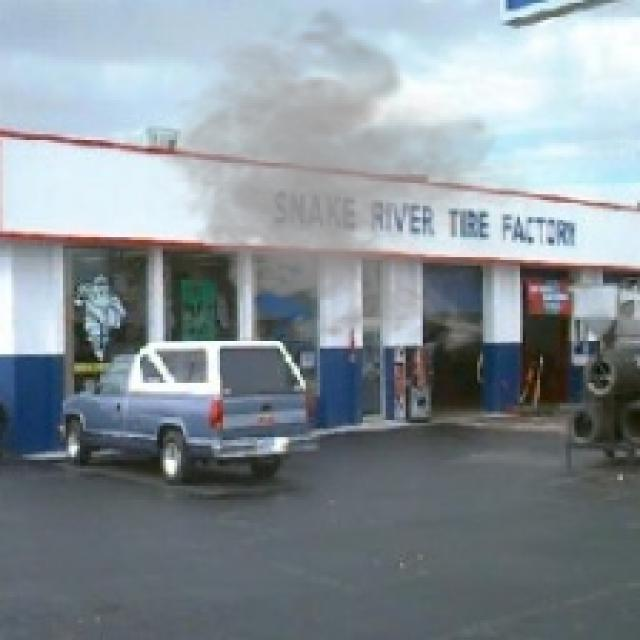smoke: (140, 6, 557, 363)
